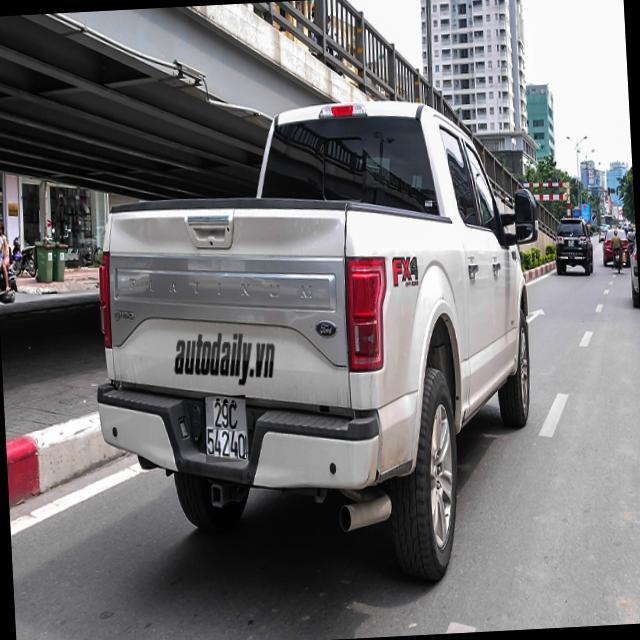car: (96, 94, 561, 564), (551, 213, 596, 278)
plate: (195, 394, 253, 464)
